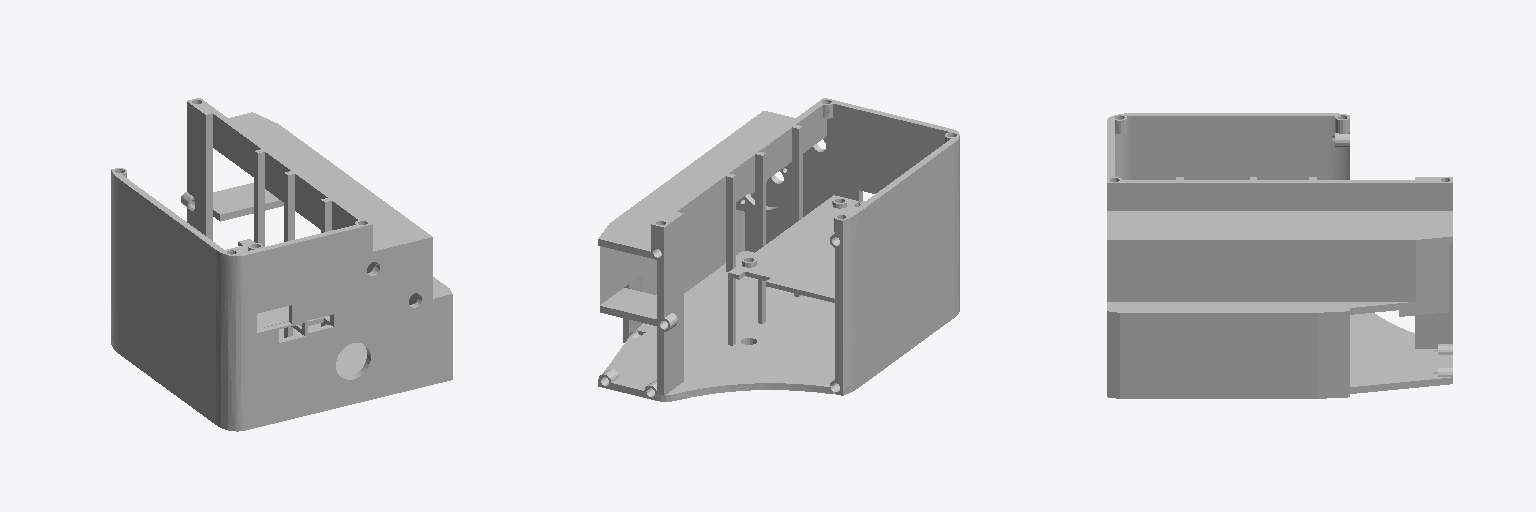
File: trasera.obj
The picture shows the model from 3 angles: view 1: azimuth 30°, elevation 25°; view 2: azimuth 150°, elevation 25°; view 3: azimuth 270°, elevation 25°; orthographic projection.
Bounding box in the file's own units: 104 × 76.7 × 137.